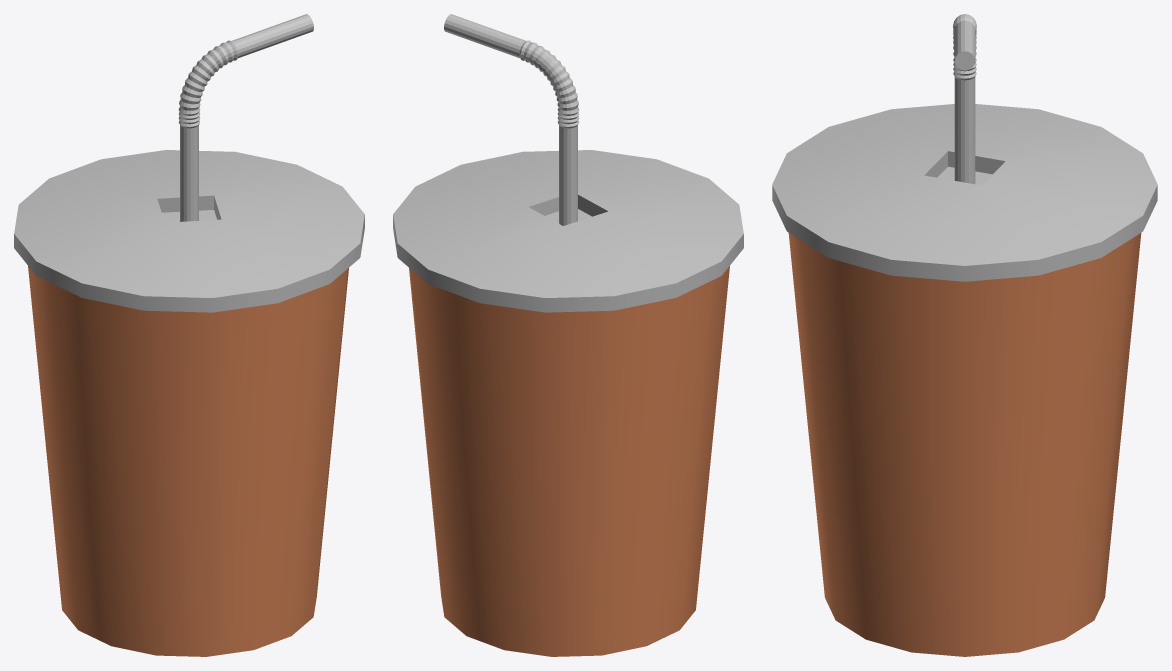
File: Coke.fbx
The picture shows the model from 3 angles, left to right: view 1: azimuth 30°, elevation 25°; view 2: azimuth 150°, elevation 25°; view 3: azimuth 270°, elevation 25°; orthographic projection. The views are drawn at different scales.
Parts seen in each view (by area): view 1: Cup, Straw; view 2: Cup, Straw; view 3: Cup, Straw.
Boxes of the visible parts, x1=… form: Cup: x1=14, y1=150, x2=364, y2=656; Straw: x1=178, y1=14, x2=313, y2=221; Cup: x1=393, y1=150, x2=743, y2=656; Straw: x1=444, y1=14, x2=579, y2=225; Cup: x1=772, y1=104, x2=1157, y2=656; Straw: x1=953, y1=14, x2=976, y2=184.
Size of the model in its own units: 275 by 275 by 480.
Materials: 1 (1 with a texture image).
